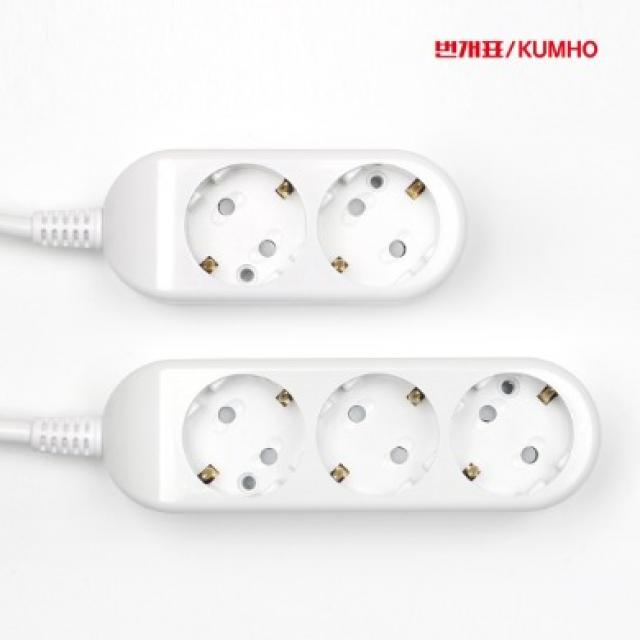typeb: (62, 110, 626, 571)
